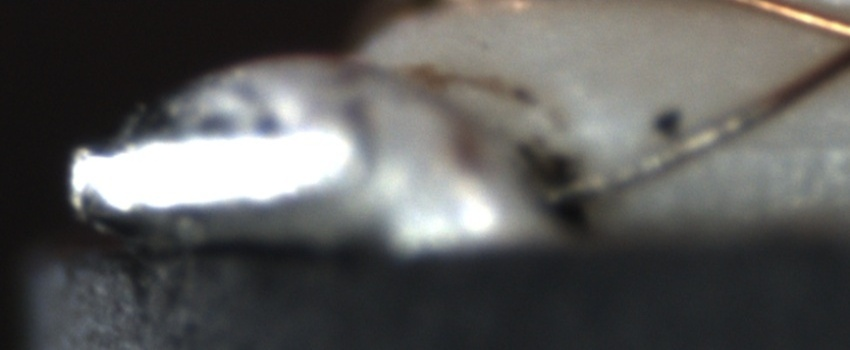DL: (708, 133, 849, 172)
TS: (551, 102, 766, 202)
